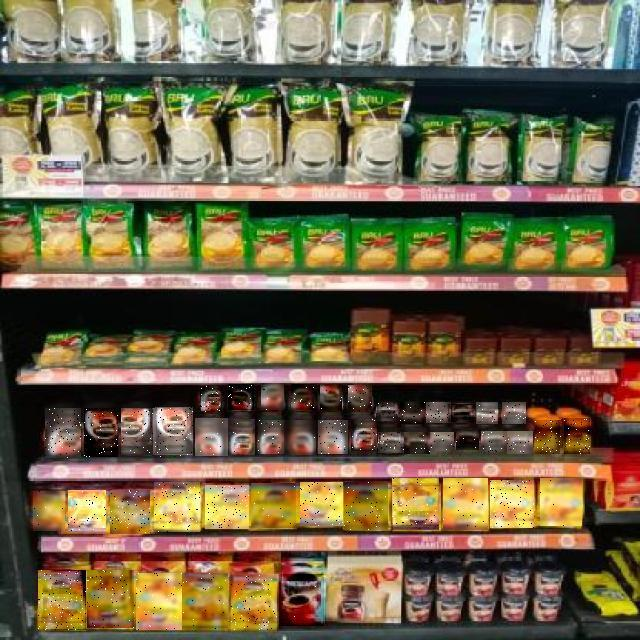Coffee: (39, 570, 87, 630), (88, 570, 136, 628), (136, 573, 182, 630), (183, 574, 229, 630), (231, 575, 277, 630), (392, 479, 439, 531), (443, 479, 488, 531), (279, 574, 324, 626), (154, 482, 200, 532), (491, 481, 535, 529), (344, 482, 388, 530), (252, 483, 298, 528), (540, 479, 582, 527), (205, 485, 249, 529), (155, 408, 193, 458), (300, 482, 343, 526), (45, 408, 81, 458), (110, 491, 150, 535), (84, 408, 118, 457), (122, 408, 156, 455), (68, 490, 106, 532), (33, 491, 65, 531), (195, 418, 228, 456), (284, 420, 316, 455), (318, 421, 348, 455), (228, 419, 255, 455), (564, 418, 590, 454), (351, 420, 377, 456), (258, 420, 285, 454), (536, 420, 562, 454), (228, 385, 254, 411), (261, 384, 284, 412), (348, 386, 372, 412), (291, 385, 314, 411), (507, 431, 533, 454), (320, 384, 342, 411), (200, 386, 222, 412), (404, 432, 430, 454), (400, 402, 425, 424), (378, 432, 404, 453), (481, 431, 507, 452), (503, 402, 527, 424), (426, 402, 451, 423), (429, 432, 455, 451), (477, 402, 499, 424), (449, 404, 475, 422), (456, 432, 479, 452), (376, 403, 398, 423)
